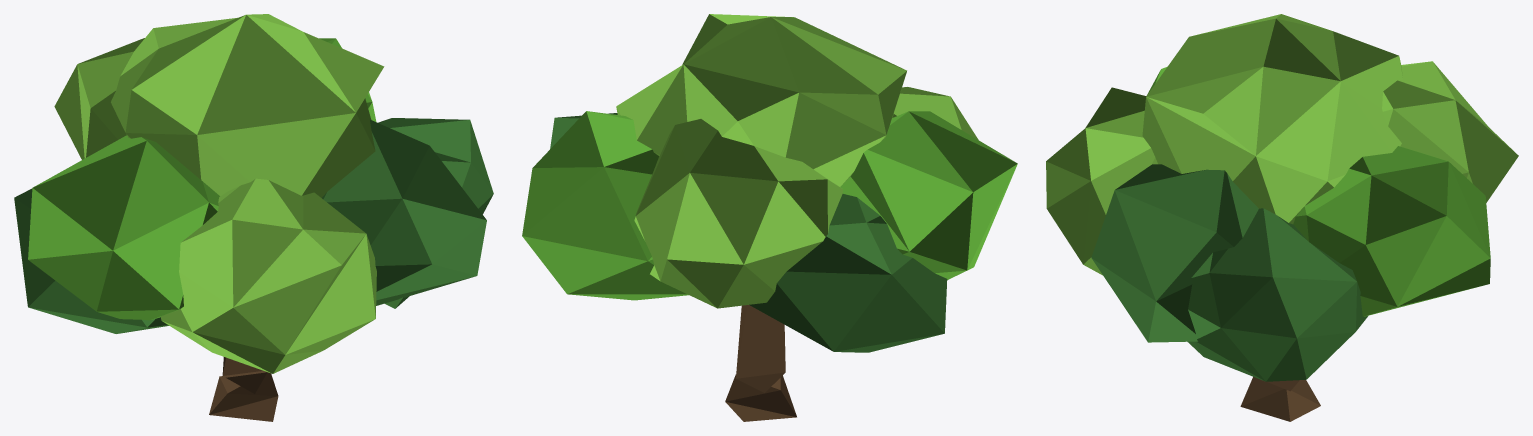
File: tree_oak_1_lod1.glb
3 renders of one model, left to right at view 1: azimuth 30°, elevation 25°; view 2: azimuth 150°, elevation 25°; view 3: azimuth 270°, elevation 25°, orthographic. The views are drawn at different scales.
Visible parts, largest first — view 1: tree_oak_1_lod1; view 2: tree_oak_1_lod1; view 3: tree_oak_1_lod1.
Part boxes in pixels (x1=…): tree_oak_1_lod1: x1=14, y1=14, x2=493, y2=421; tree_oak_1_lod1: x1=522, y1=14, x2=1017, y2=421; tree_oak_1_lod1: x1=1046, y1=14, x2=1518, y2=421.
Bounding box in the file's own units: 8.55 × 7.48 × 8.32.
